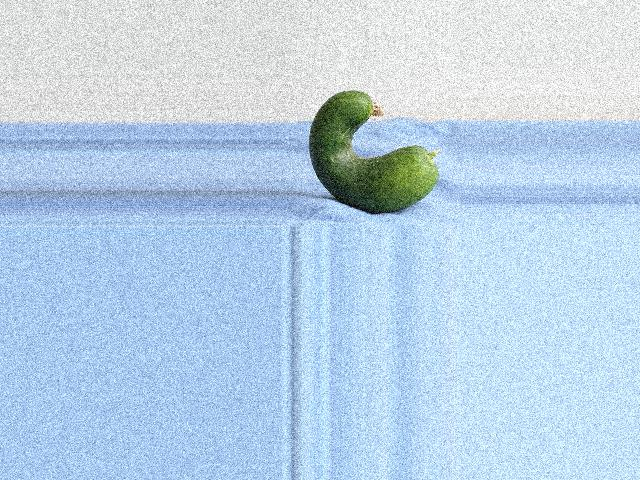cucumber: (309, 90, 439, 213)
